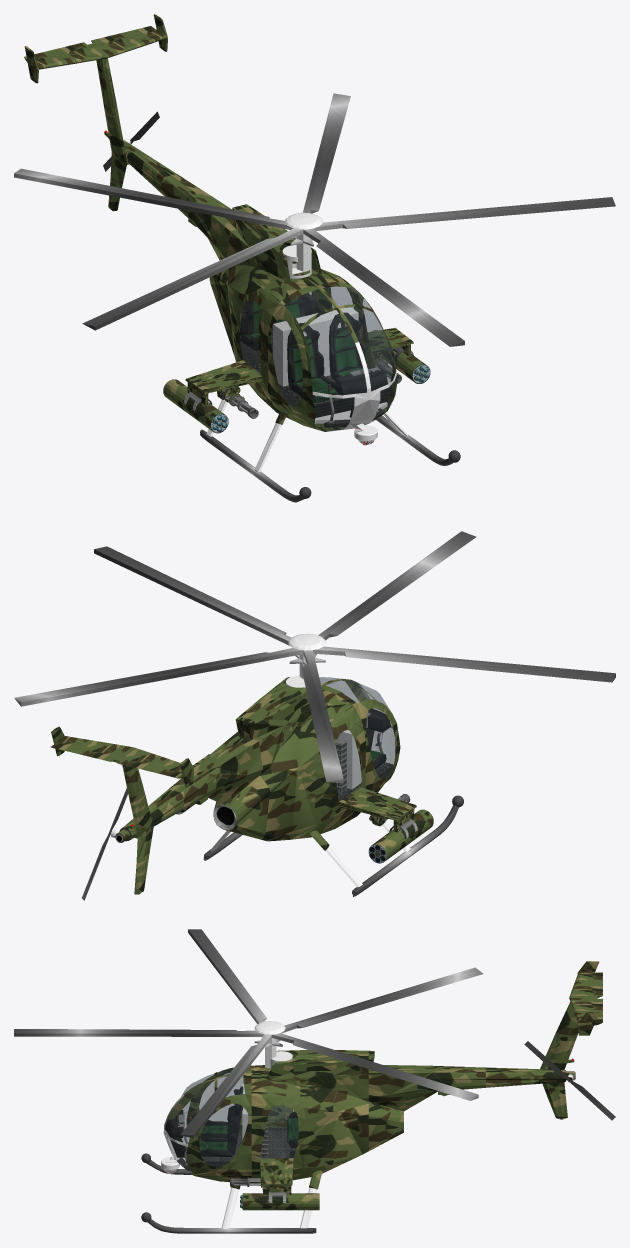
File: heli.glb
The picture shows the model from 3 angles, top to bottom: view 1: azimuth 30°, elevation 25°; view 2: azimuth 150°, elevation 25°; view 3: azimuth 270°, elevation 25°; orthographic projection. The views are drawn at different scales.
Visible parts, largest first — view 1: Nody, Rot; view 2: Nody, Rot; view 3: Nody, Rot, Rot2.
Boxes of the visible parts, <box> form: Nody: <box>24,14,460,502</box>; Rot: <box>14,93,615,346</box>; Nody: <box>50,675,463,896</box>; Rot: <box>14,531,615,783</box>; Nody: <box>141,961,602,1233</box>; Rot: <box>14,929,483,1138</box>; Rot2: <box>524,1041,615,1120</box>.
Size of the model in its own units: 6.11 by 2.92 by 7.49.
38 materials, 16 textured.
